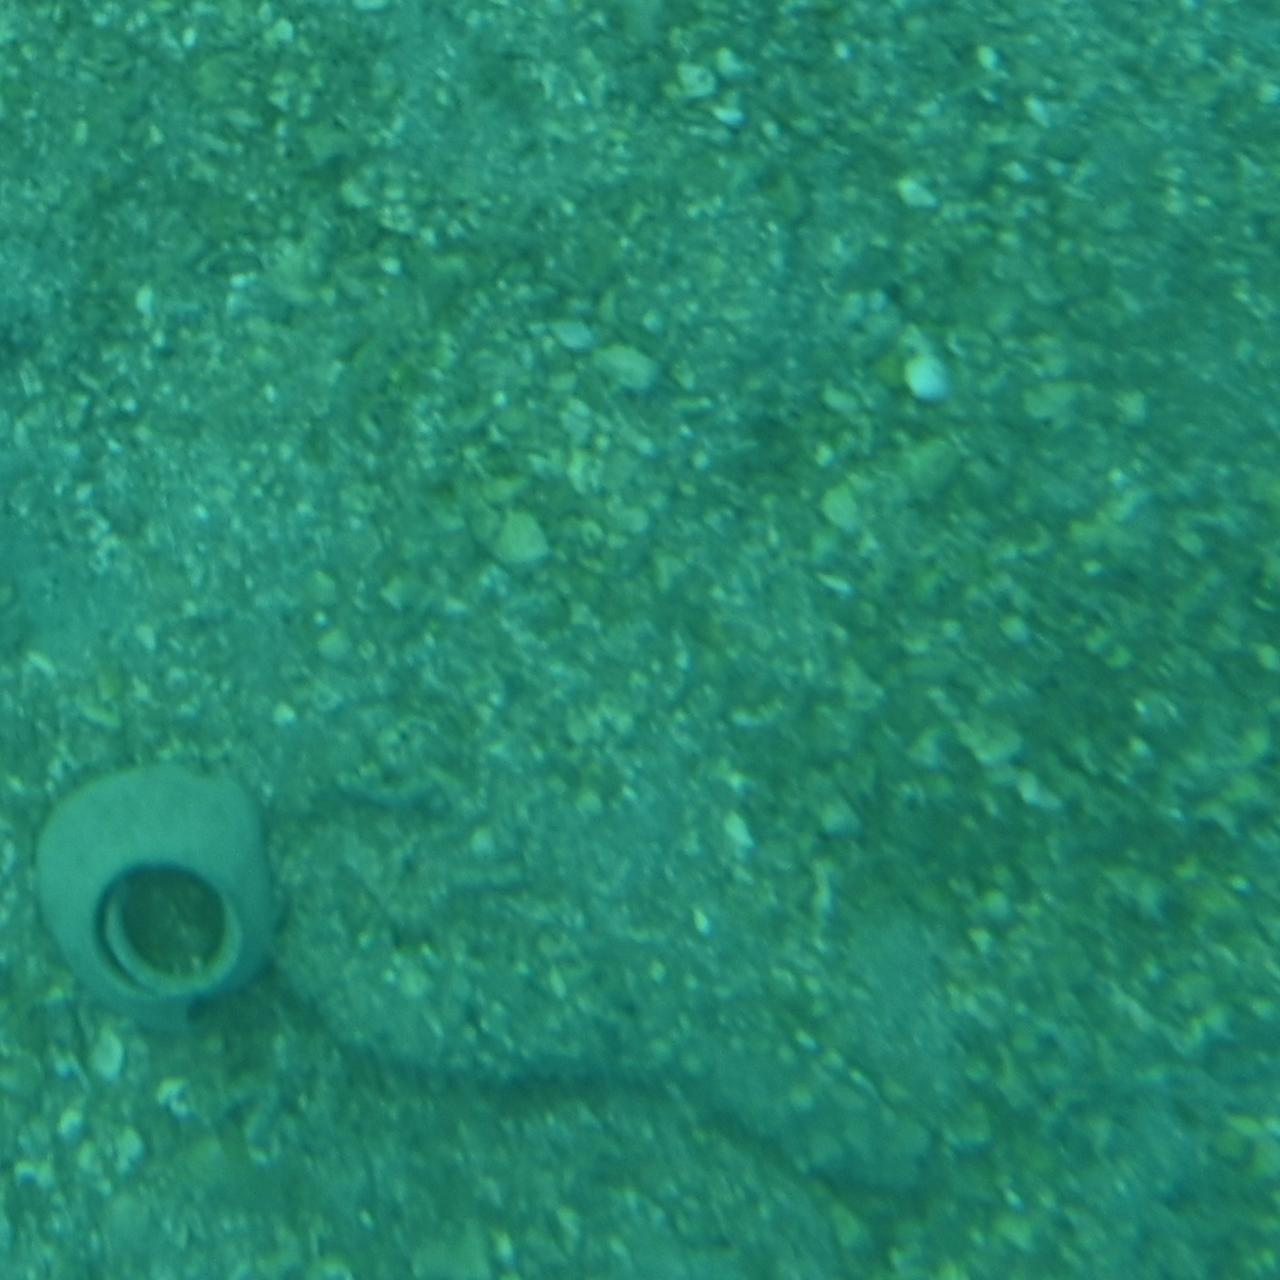Holothuria tubulosa: (316, 917, 964, 1221)
